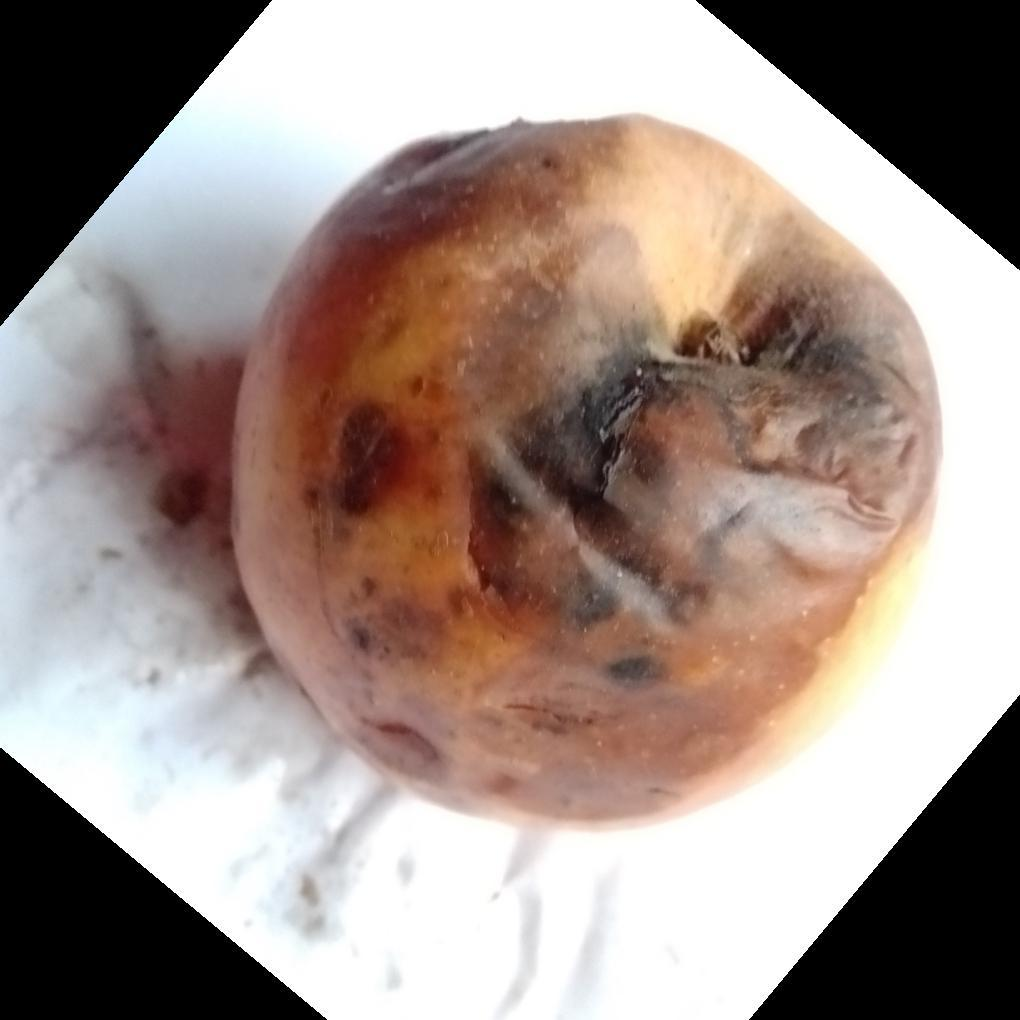FreshOrange: (227, 113, 943, 833)
